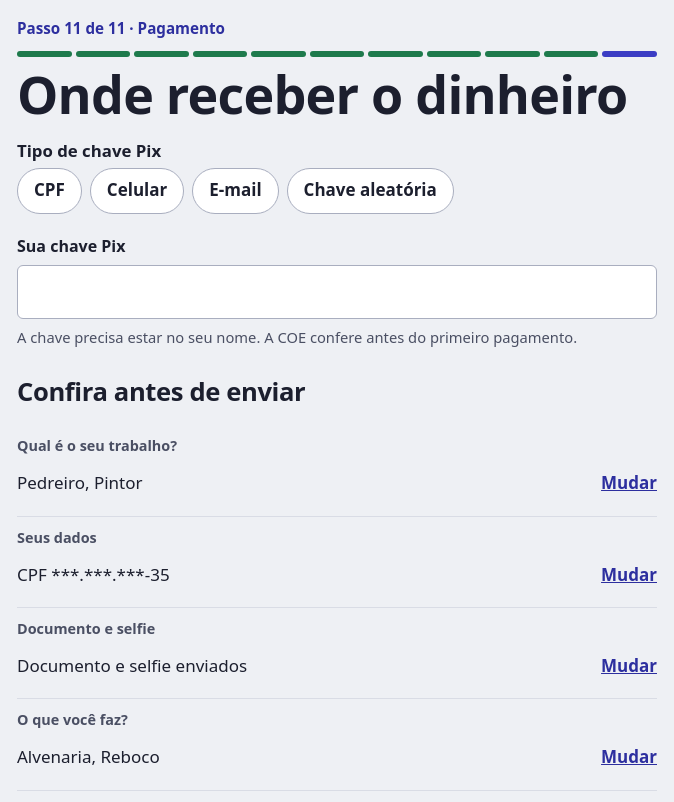
etapa 11: Pix, revisão e envio › Pix salvo e envio recusado: tentar de novo não pede a chave outra vez
The image size is (674, 802).
Click the radio button labelled "Chave aleatória": click(370, 191) [287,168,454,214]
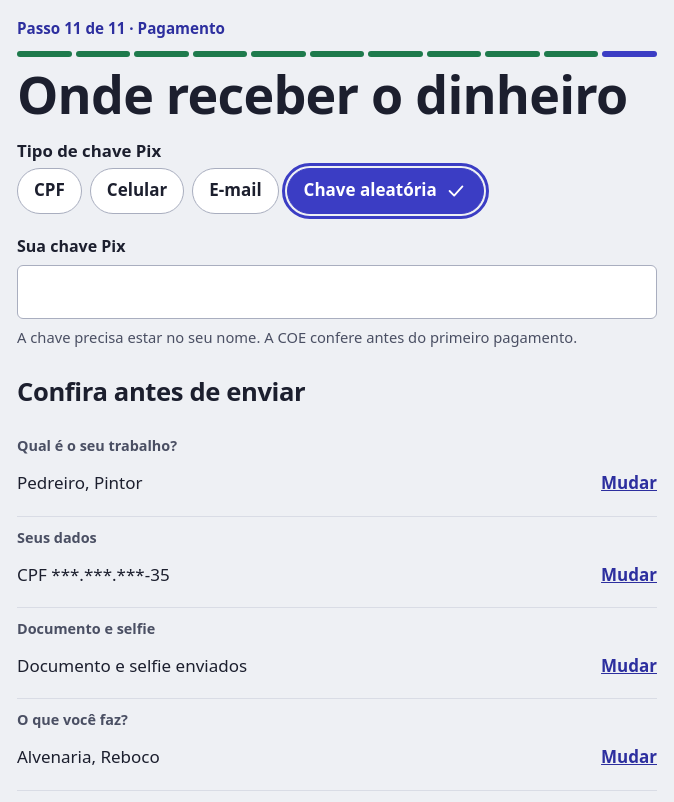
In the field labelled "Sua chave Pix": (337, 292) [17,265,657,319], type "123e4567-e89b-12d3-a456-426614174000"
(page scrolled)
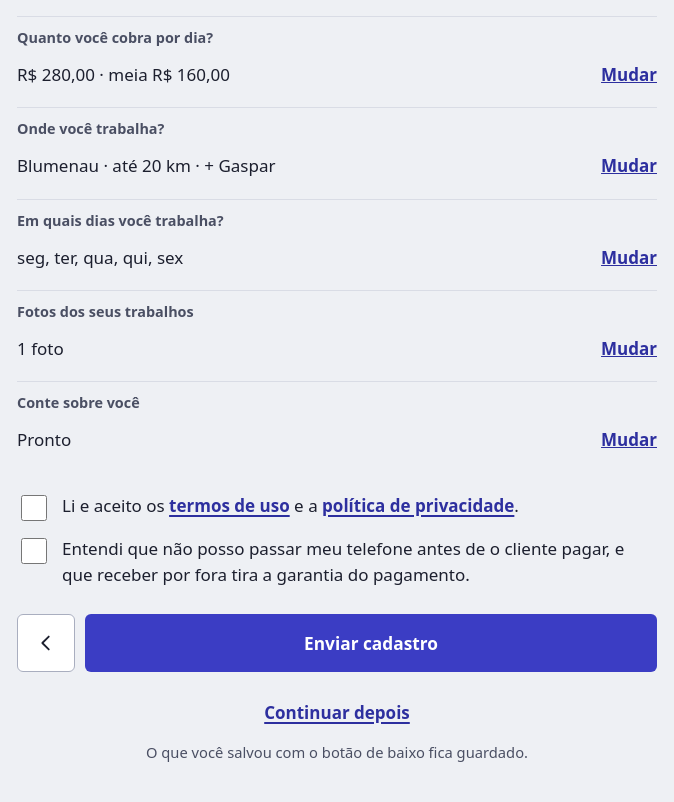
Click the checkbox labelled "Li e aceito os termos de uso e a política de privacidade .": click(34, 508) [21,495,47,521]
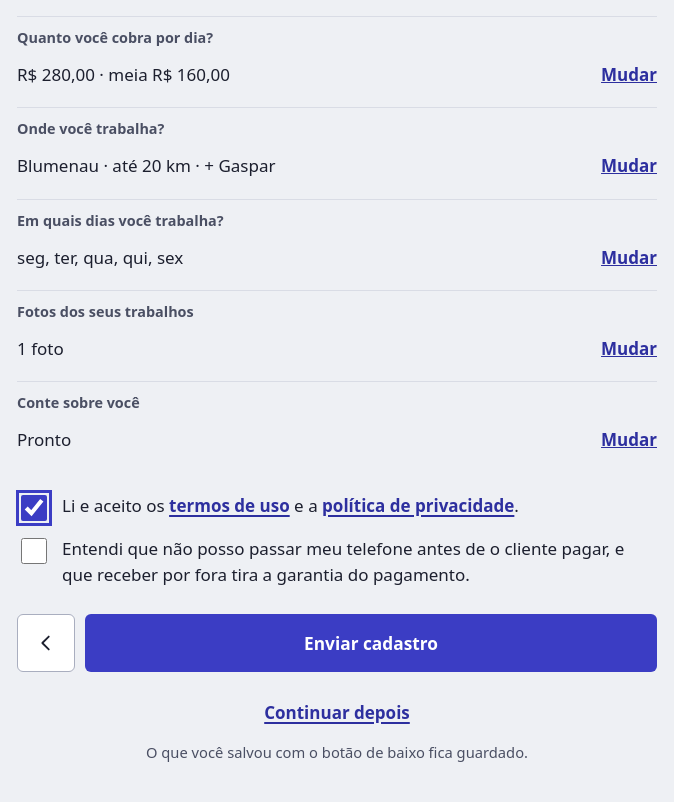
Click the checkbox labelled "não posso passar meu telefone": click(34, 551) [21,538,47,564]
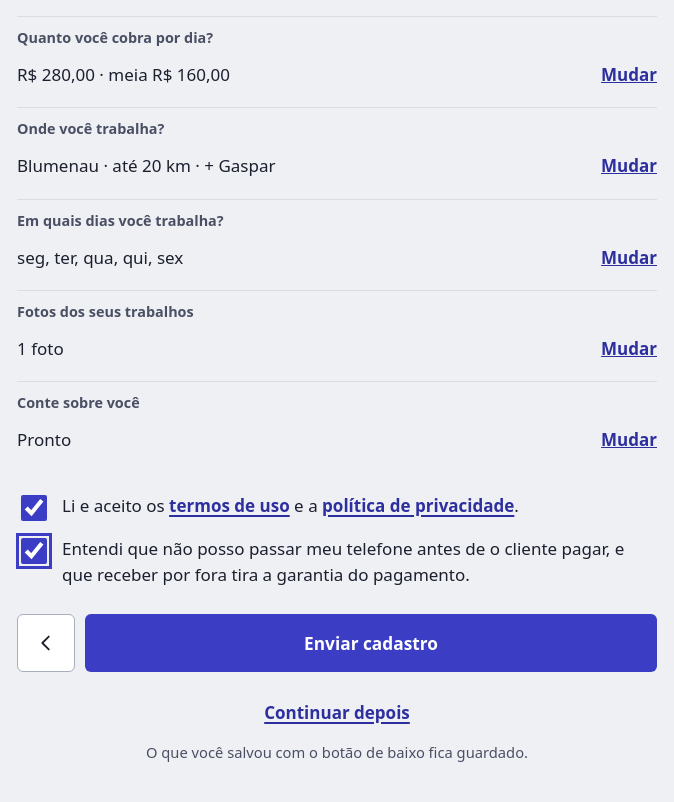
Click the button "Enviar cadastro": click(371, 643) [85,614,657,672]
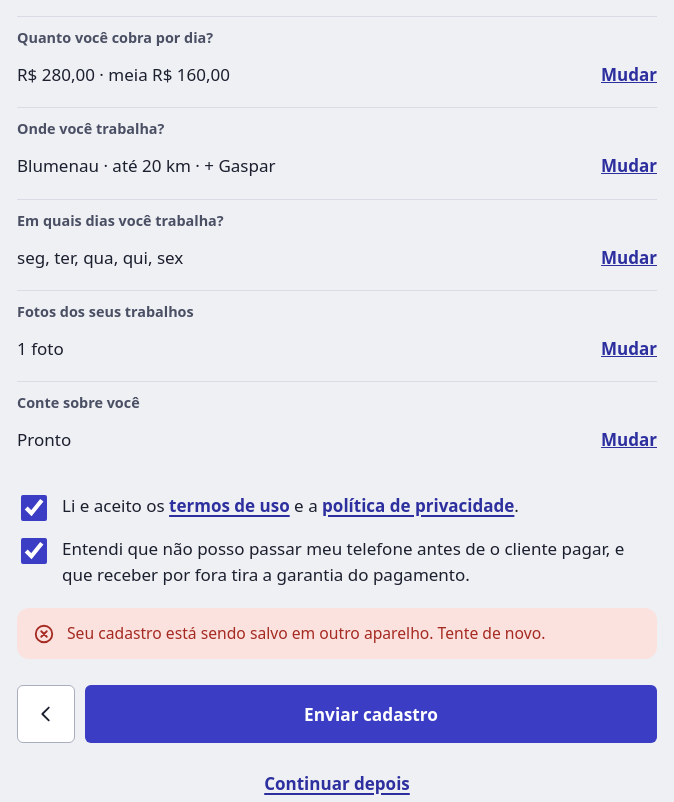
Check: the text "sendo salvo em outro aparelho" is shown, box [67,622,545,644]
Click the button "Enviar cadastro": click(371, 714) [85,685,657,743]
(page scrolled)
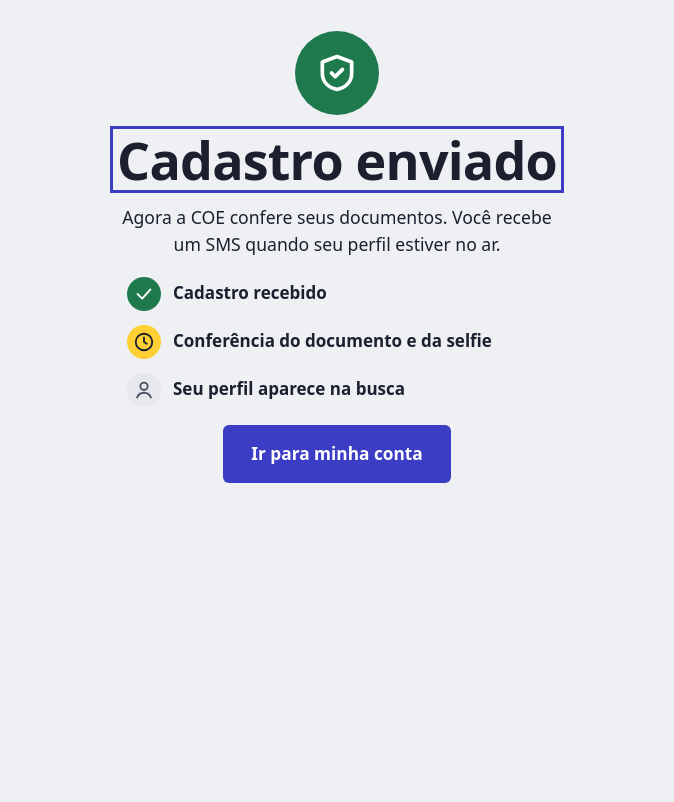
Check: the heading "Cadastro enviado" is shown, box [117,133,557,186]
